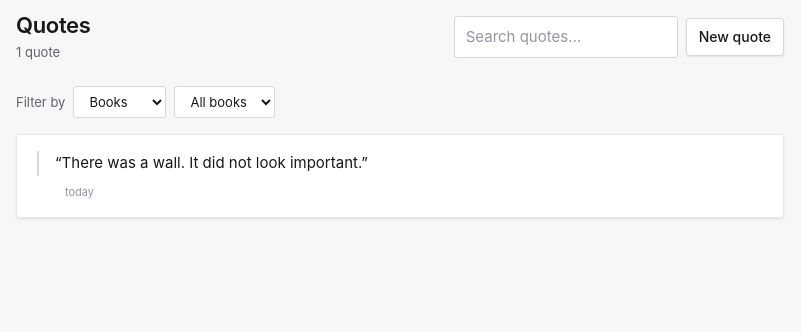
the Quotes screen › opens the passage in place rather than on a page of its own
Click the button with test id "quote-body".
click(202, 163)  # box left=17, top=135, right=783, bottom=217
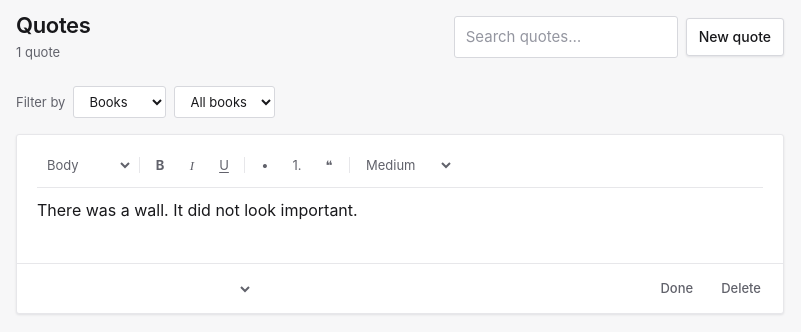
Expected: the dropdown named "Book this quote is from" is shown, left=29, top=275, right=253, bottom=303
